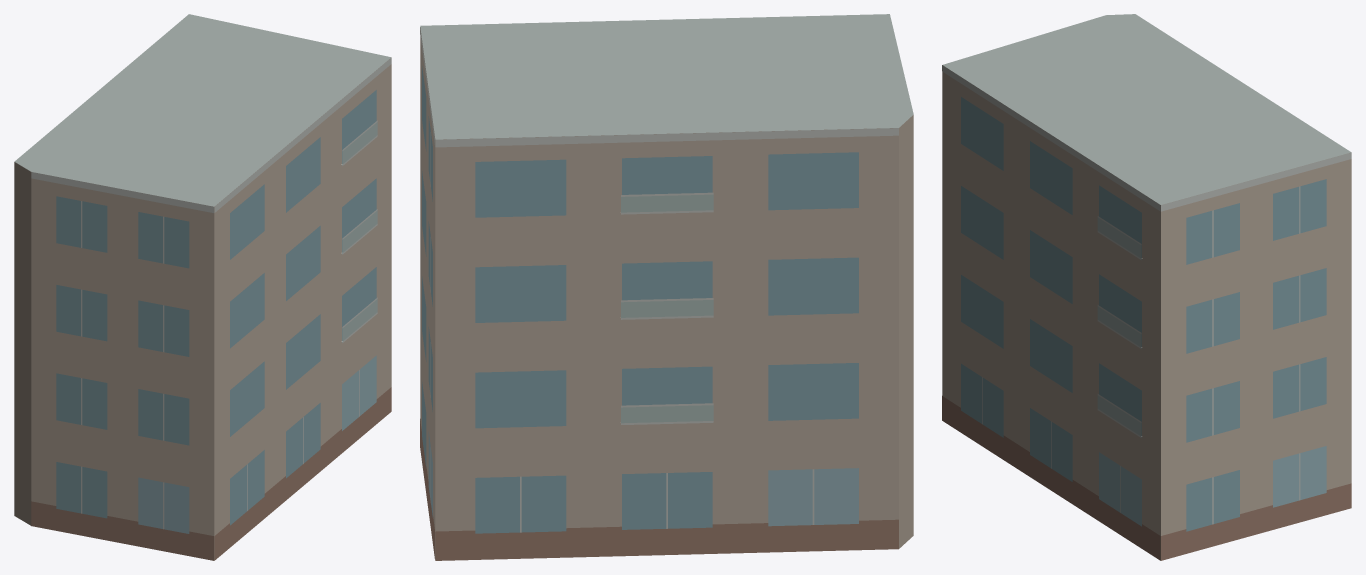
Rendered from survey-upis-32797716.glb.
The picture shows the model from 3 angles, left to right: view 1: azimuth 30°, elevation 25°; view 2: azimuth 150°, elevation 25°; view 3: azimuth 270°, elevation 25°; orthographic projection. The views are drawn at different scales.
Visible parts, largest first — view 1: survey-upis-32797716.tmp; view 2: survey-upis-32797716.tmp; view 3: survey-upis-32797716.tmp.
Part boxes in pixels (x1=…): survey-upis-32797716.tmp: x1=14, y1=14, x2=391, y2=560; survey-upis-32797716.tmp: x1=420, y1=14, x2=913, y2=560; survey-upis-32797716.tmp: x1=942, y1=14, x2=1351, y2=560.
Size of the model in its own units: 15.22 by 13.2 by 13.78.
